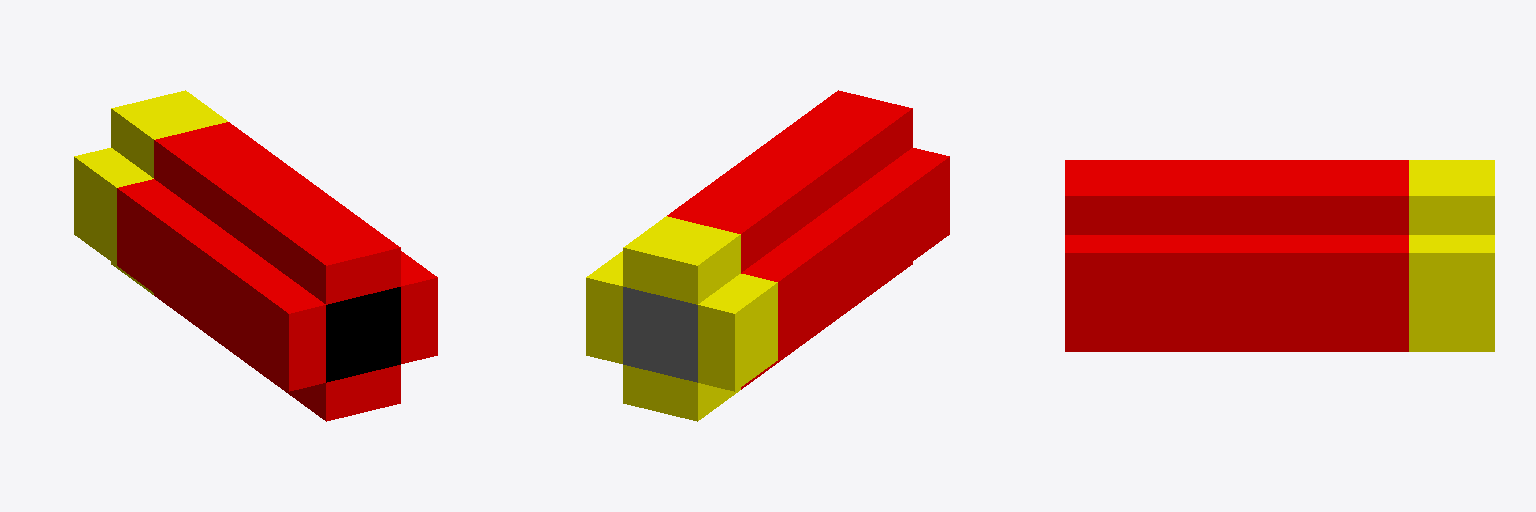
3 views of the same model, side by side, from view 1: azimuth 30°, elevation 25°; view 2: azimuth 150°, elevation 25°; view 3: azimuth 270°, elevation 25° (orthographic).
Size of the model in its own units: 4 by 4 by 10.
Materials: 1 (1 with a texture image).